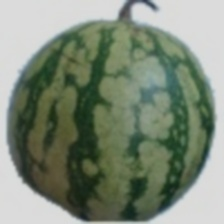watermelon: (28, 40, 224, 185)
